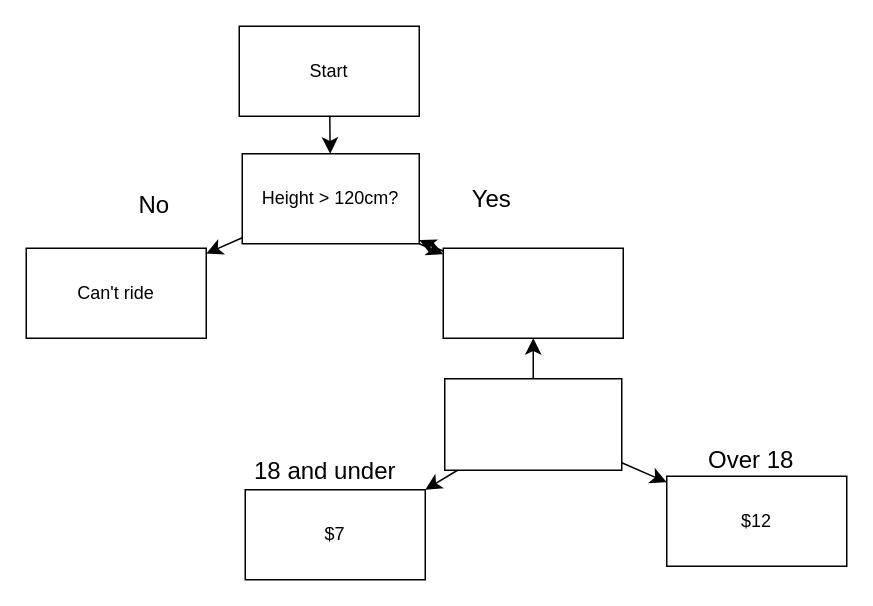
This 873x606 diagram has some shape labels left out. Here are the shapes that lost their labels. From the top down, the box of each, then its label:
(442, 247, 623, 338): Can ride
(443, 377, 622, 470): age
